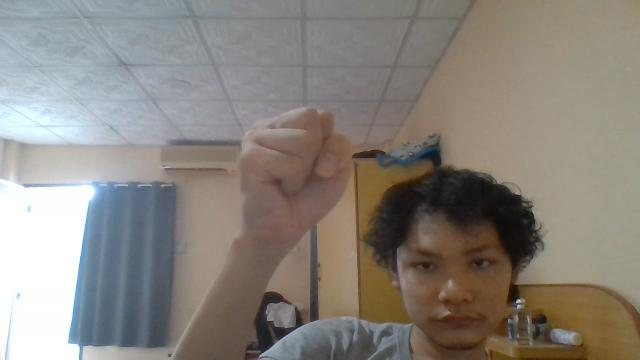forward: (236, 105, 352, 244)
